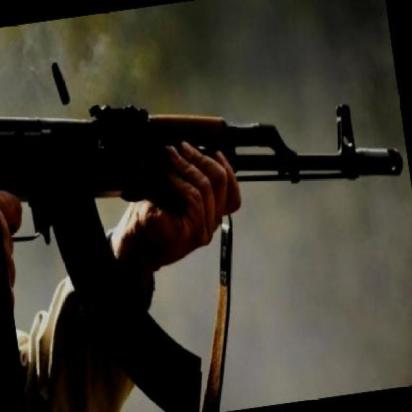Gun: (0, 17, 412, 412)
